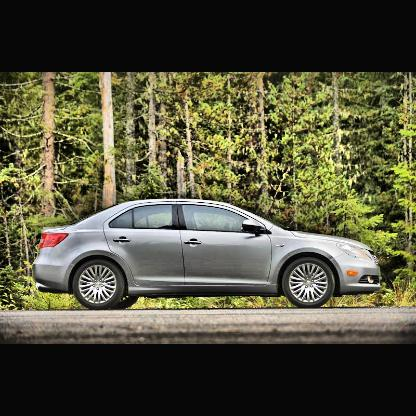Suzuki Kizashi Sedan 2012: (30, 191, 386, 312)
